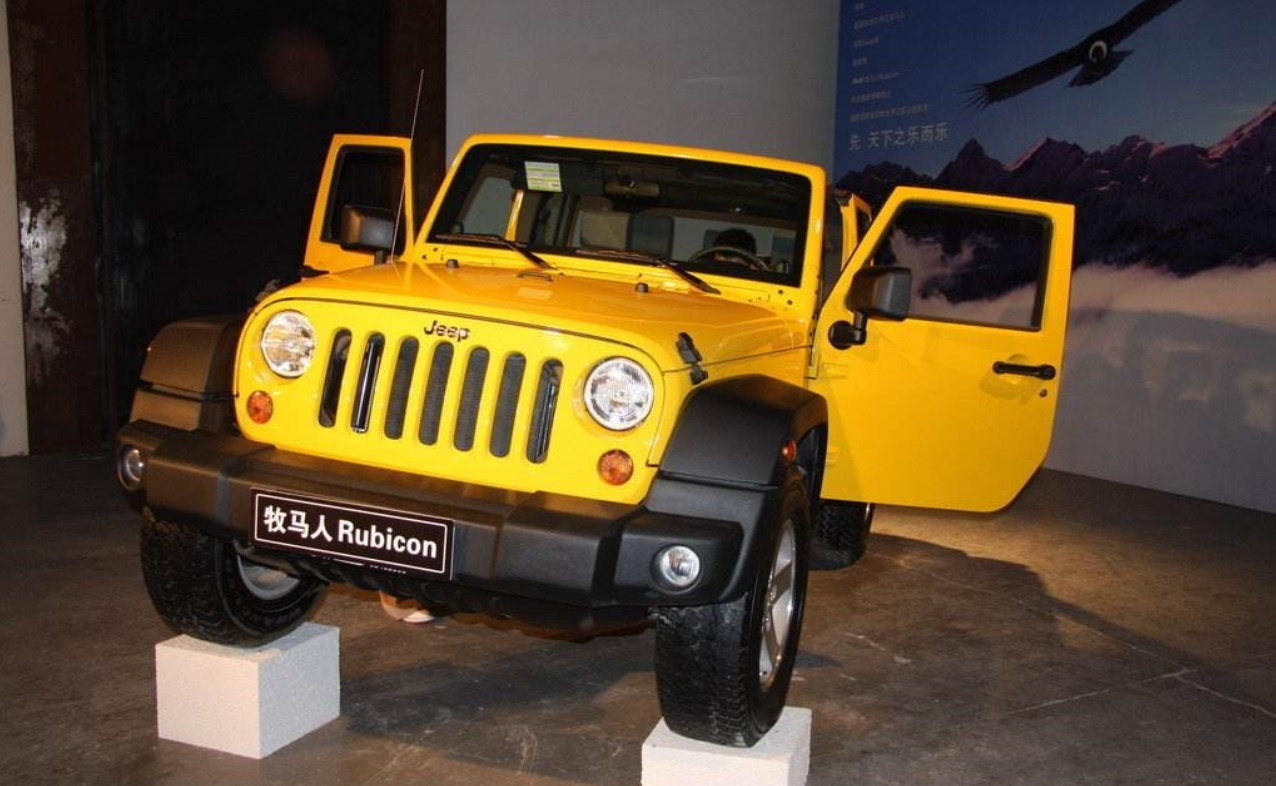racing car: (137, 83, 942, 715)
